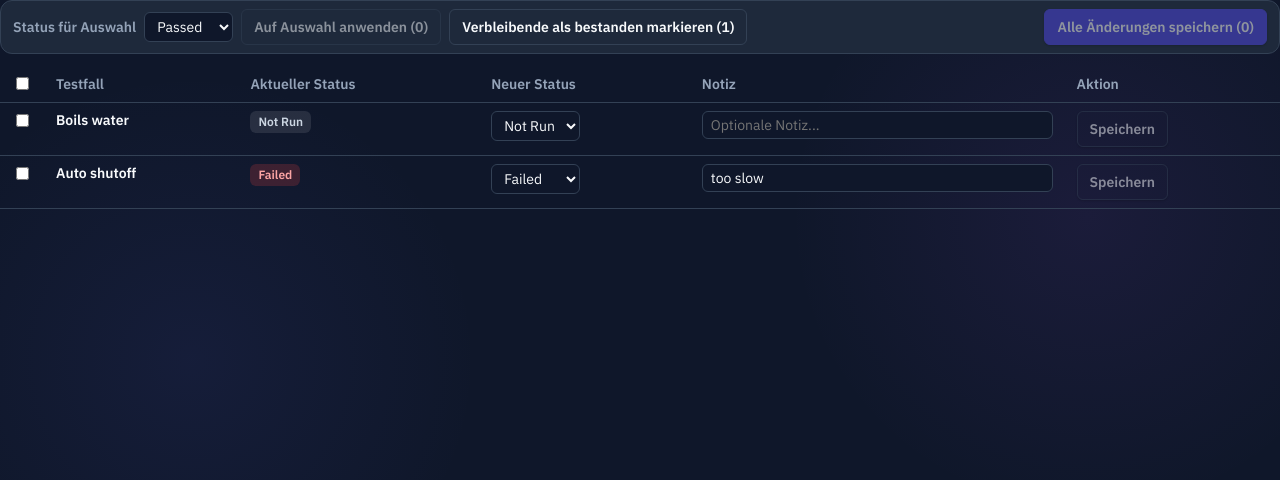
Test: TestRunResultEntryGrid (UI-04) › surfaces a failed write instead of swallowing it
This screenshot has width=1280, height=480.
Step 1. Select "Blocked" in the dropdown with test id "testrun-result-status-select-res-1" → (536, 126), box [491,111,580,141]
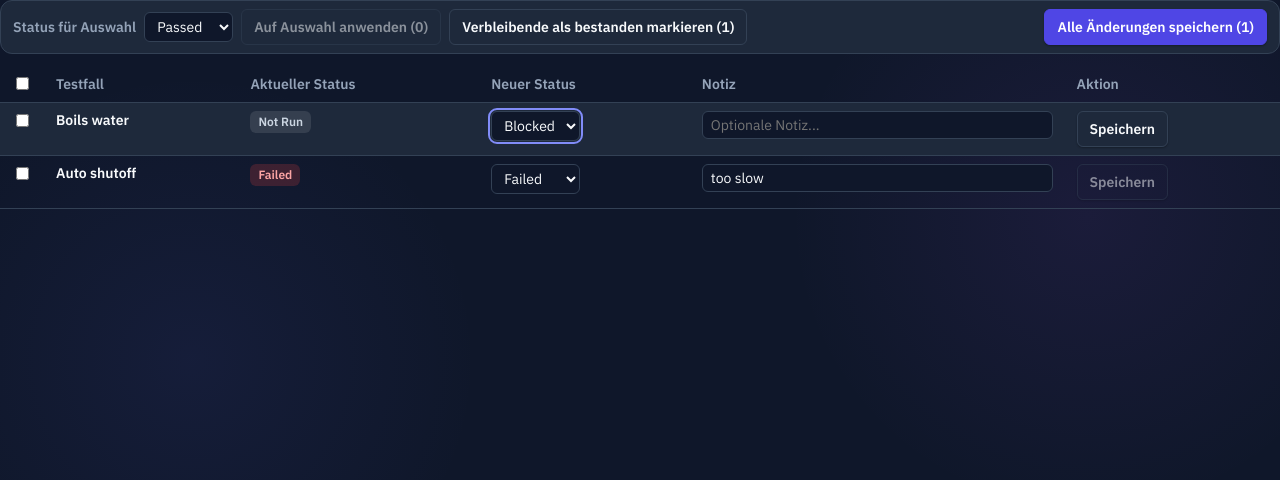
Step 2. Click the button with test id "testrun-result-save-res-1" → (1122, 129), box [1076,111,1168,147]
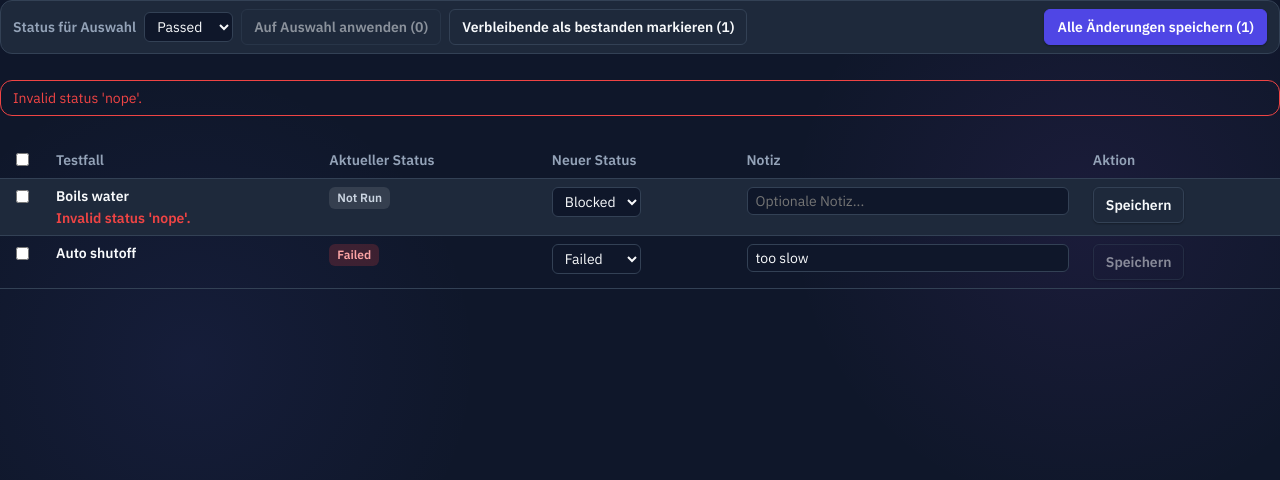
Now the message with test id "testrun-results-save-error" reads "Invalid status 'nope'.", box [13,89,142,107]
Now the message with test id "testrun-result-error-res-1" is shown, box [56,209,191,227]
